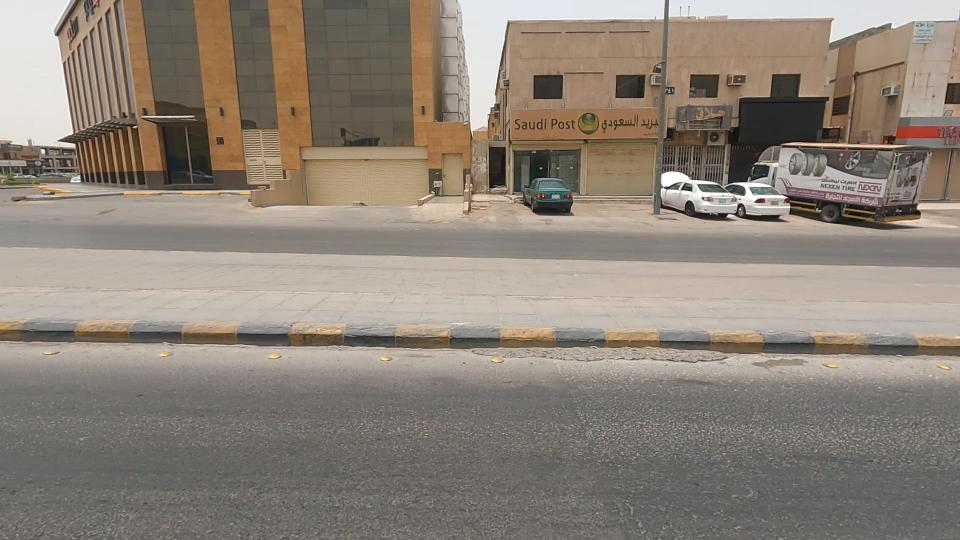BAD_BILLBOARD: (628, 66, 775, 166)
